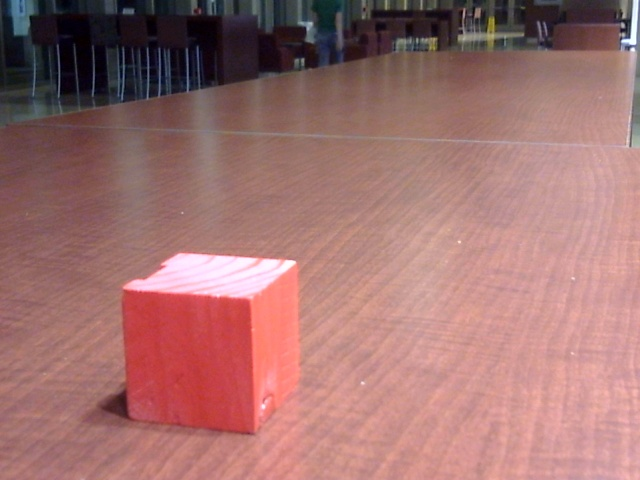RedBlock: (121, 281, 301, 434)
